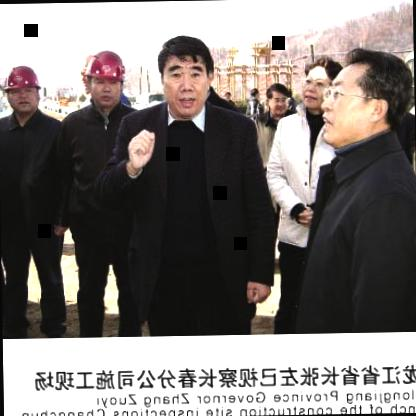head: (326, 47, 409, 145), (152, 27, 216, 120), (300, 58, 336, 112), (262, 77, 294, 122)
helmet: (78, 45, 128, 113), (2, 60, 45, 117)
